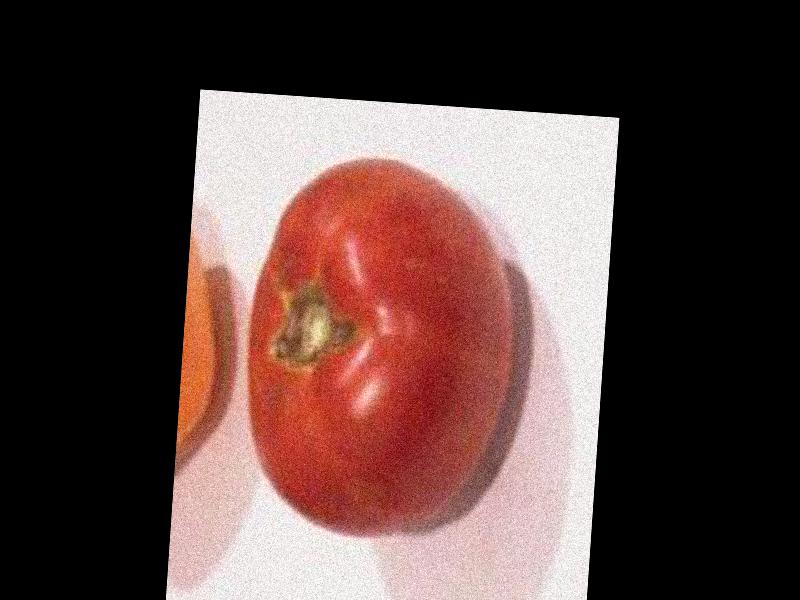Tomato: (238, 150, 521, 542)
